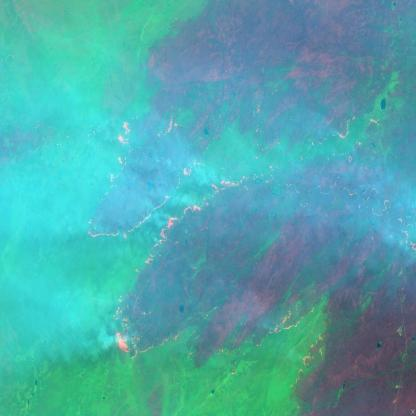fire: (81, 104, 246, 360)
